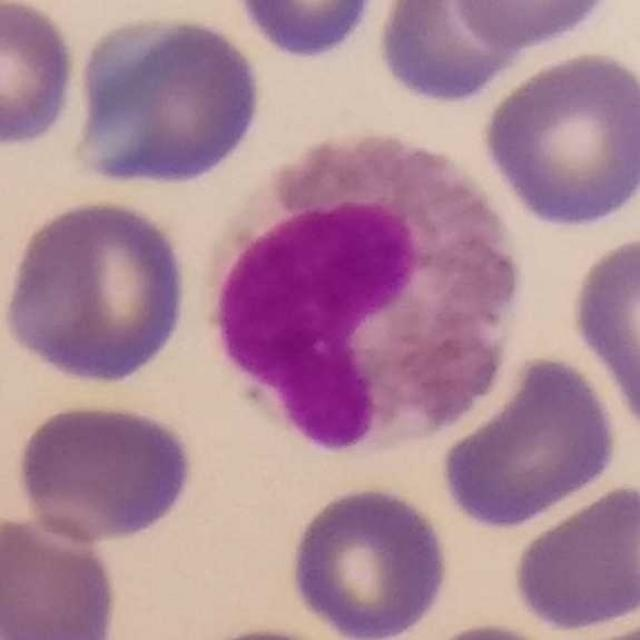Eosinophil: (192, 134, 546, 448)
RBC: (0, 194, 195, 387), (68, 11, 267, 192), (435, 351, 621, 532), (477, 47, 640, 230), (11, 398, 199, 546), (283, 479, 454, 640), (507, 477, 640, 635), (372, 0, 538, 107), (566, 228, 640, 441), (0, 510, 121, 640), (0, 0, 80, 152), (224, 0, 390, 66), (446, 0, 623, 52), (407, 616, 573, 640)
